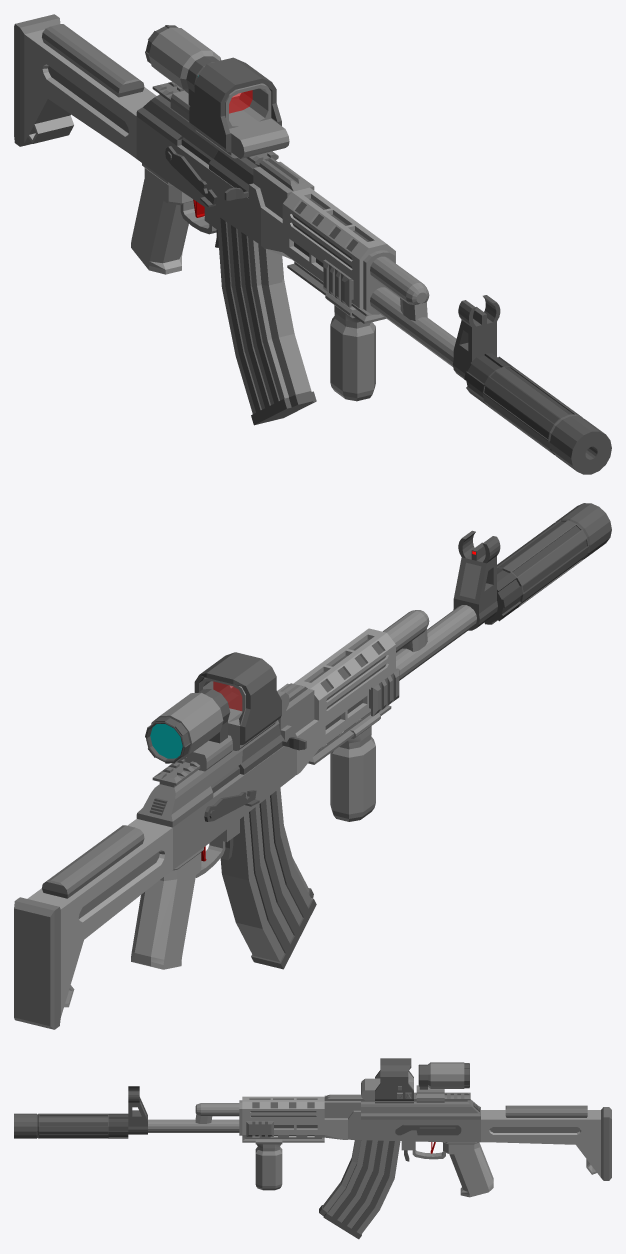
File: Tactical AKM.fbx
3 renders of one model, top to bottom at view 1: azimuth 30°, elevation 25°; view 2: azimuth 150°, elevation 25°; view 3: azimuth 270°, elevation 25°, orthographic. The views are drawn at different scales.
Parts seen in each view (by area): view 1: Cube15, Cube19.001, Cylinder23, Cube18, Cube34, Cube21, Cylinder25, Cylinder25.001, Cylinder23_copy24, Cube26.001, Cube19, Cube28 (+1 smaller); view 2: Cube15, Cube19.001, Cylinder23, Cube18, Cube34, Cube21, Cylinder25, Cylinder25.001, Cube26.001, Cylinder23_copy24, Cube19, Cube23 (+2 smaller); view 3: Cube15, Cube19.001, Cylinder23, Cube18, Cube34, Cube21, Cylinder25, Cylinder25.001, Cylinder23_copy24, Cube30, Cube19_copy20, Cube23.
Part boxes in pixels (<box>): Cube15: <box>14,14,314,274</box>; Cube19.001: <box>216,215,316,425</box>; Cylinder23: <box>370,287,611,474</box>; Cube18: <box>261,187,395,323</box>; Cube34: <box>189,57,289,158</box>; Cube21: <box>325,292,375,401</box>; Cylinder25: <box>145,25,221,105</box>; Cylinder25.001: <box>452,295,500,378</box>; Cylinder23_copy24: <box>370,256,429,320</box>; Cube26.001: <box>209,150,253,200</box>; Cube19: <box>323,259,353,307</box>; Cube28: <box>165,146,217,207</box>; Cube15: <box>14,683,314,1029</box>; Cube19.001: <box>220,788,316,969</box>; Cylinder23: <box>396,503,611,680</box>; Cube18: <box>293,628,395,774</box>; Cube34: <box>194,652,289,750</box>; Cube21: <box>330,713,380,821</box>; Cylinder25: <box>145,689,230,763</box>; Cylinder25.001: <box>453,530,500,630</box>; Cube26.001: <box>238,724,306,774</box>; Cylinder23_copy24: <box>383,610,429,652</box>; Cube19: <box>369,668,399,716</box>; Cube23: <box>183,735,232,771</box>; Cube15: <box>324,1092,611,1197</box>; Cube19.001: <box>319,1140,400,1239</box>; Cylinder23: <box>14,1113,239,1138</box>; Cube18: <box>242,1096,347,1142</box>; Cube34: <box>361,1058,413,1103</box>; Cube21: <box>255,1139,282,1190</box>; Cylinder25: <box>418,1062,469,1089</box>; Cylinder25.001: <box>128,1086,147,1134</box>; Cylinder23_copy24: <box>195,1103,239,1123</box>; Cube30: <box>395,1124,461,1135</box>; Cube19_copy20: <box>246,1121,273,1136</box>; Cube23: <box>416,1085,444,1102</box>.
Bounding box in the file's own units: 158 × 688 × 2144.
